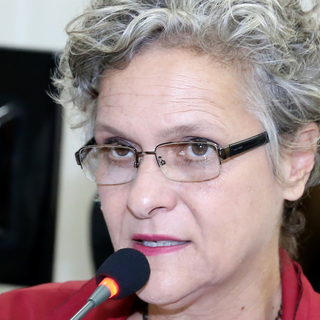eye: (176, 132, 222, 163), (98, 135, 144, 164)
